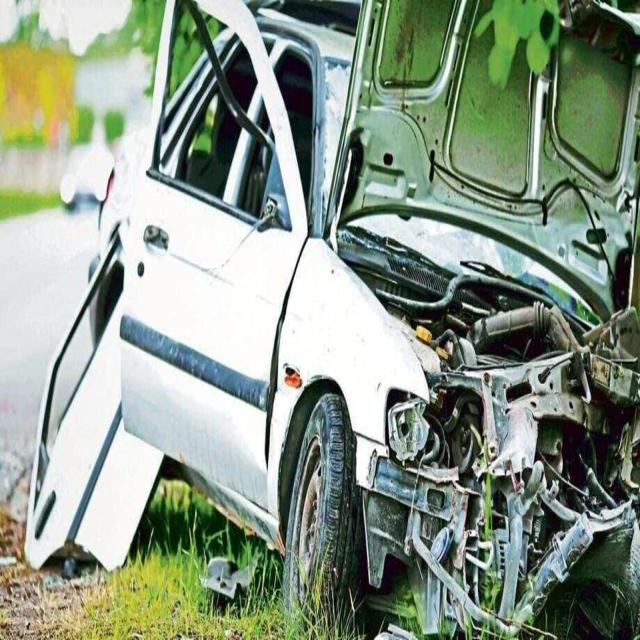accident: (25, 0, 640, 636)
